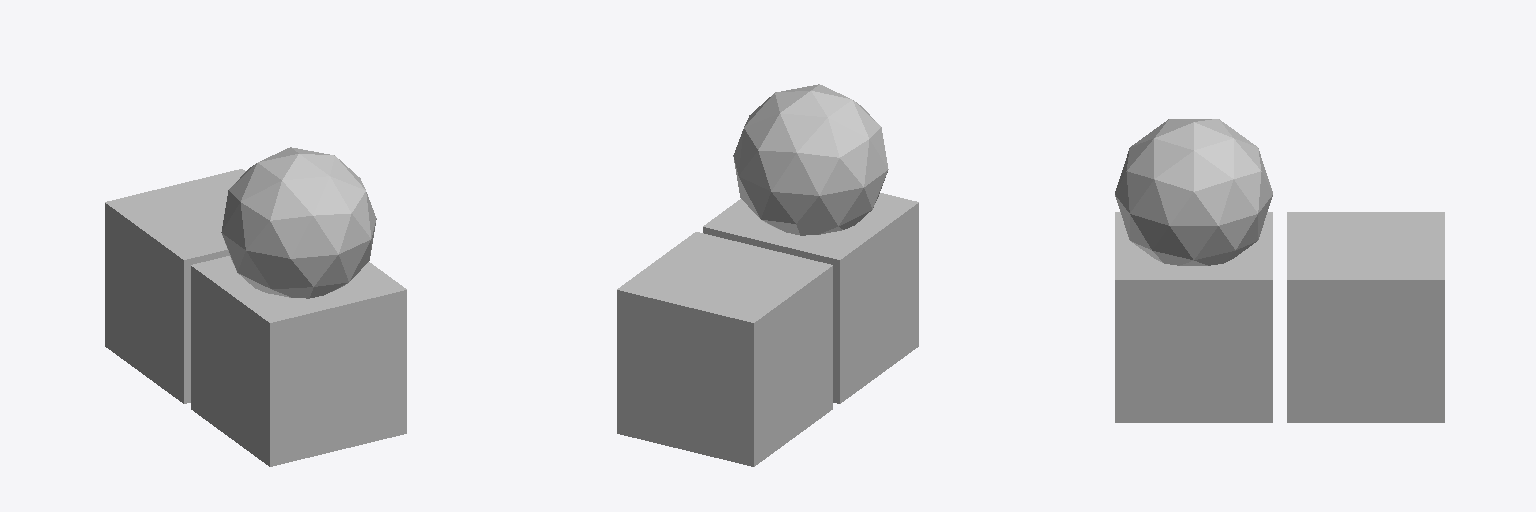
File: test_multiple.obj
3 renders of one model, left to right at view 1: azimuth 30°, elevation 25°; view 2: azimuth 150°, elevation 25°; view 3: azimuth 270°, elevation 25°, orthographic.
Parts seen in each view (by area): view 1: Cube, Icosphere; view 2: Cube, Icosphere; view 3: Cube, Icosphere.
Boxes of the visible parts, x1=… form: Cube: x1=105, y1=169, x2=406, y2=466; Icosphere: x1=221, y1=147, x2=376, y2=298; Cube: x1=617, y1=193, x2=918, y2=466; Icosphere: x1=733, y1=84, x2=888, y2=235; Cube: x1=1115, y1=212, x2=1444, y2=422; Icosphere: x1=1115, y1=119, x2=1272, y2=265.
Size of the model in its own units: 2 by 3.72 by 4.17.